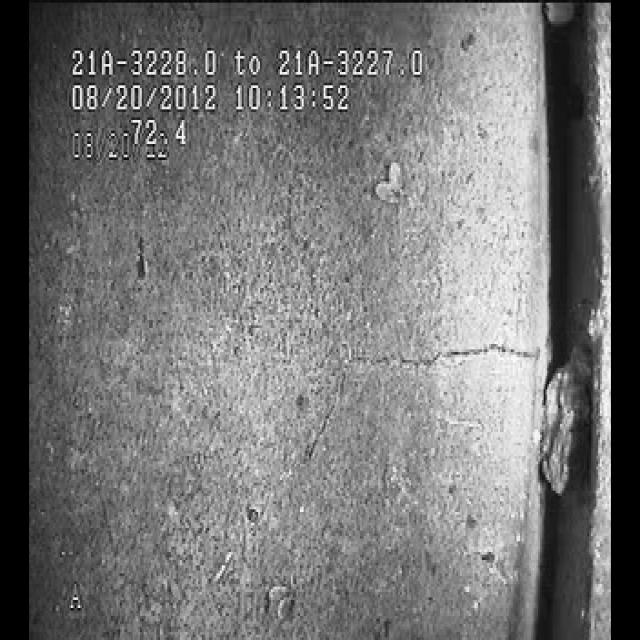Crack: (340, 298, 524, 408)
